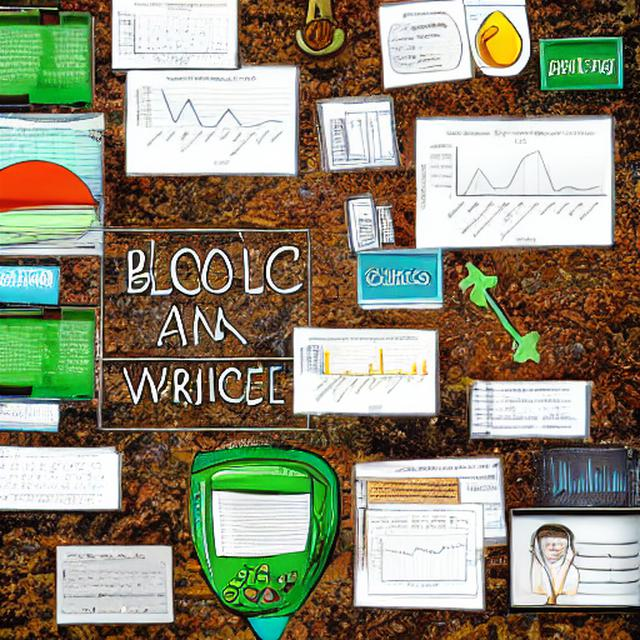Graph: (418, 127, 609, 243), (129, 71, 294, 171), (296, 333, 432, 410), (115, 0, 232, 67), (371, 532, 465, 590), (541, 447, 629, 508)
